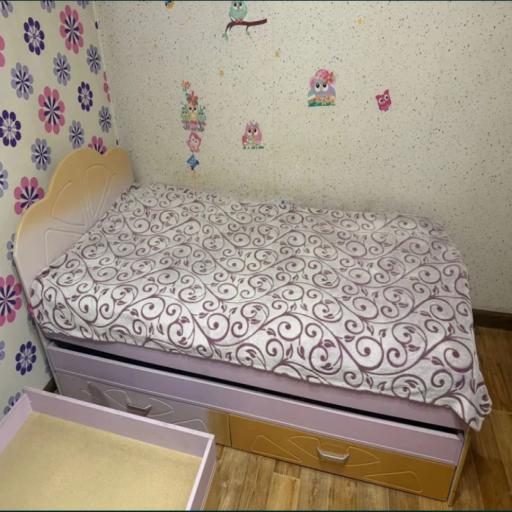person: (15, 149, 490, 499)
